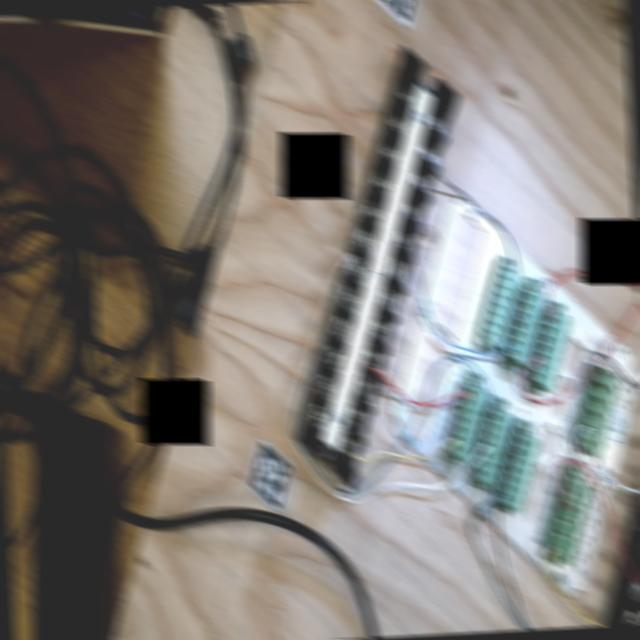Phillips_Block: (286, 45, 470, 490)
Terminal_1: (545, 470, 595, 567), (575, 364, 622, 458)
Terminal_2: (494, 424, 544, 515), (443, 376, 493, 466), (469, 400, 517, 491), (503, 280, 551, 370), (527, 304, 574, 393)
